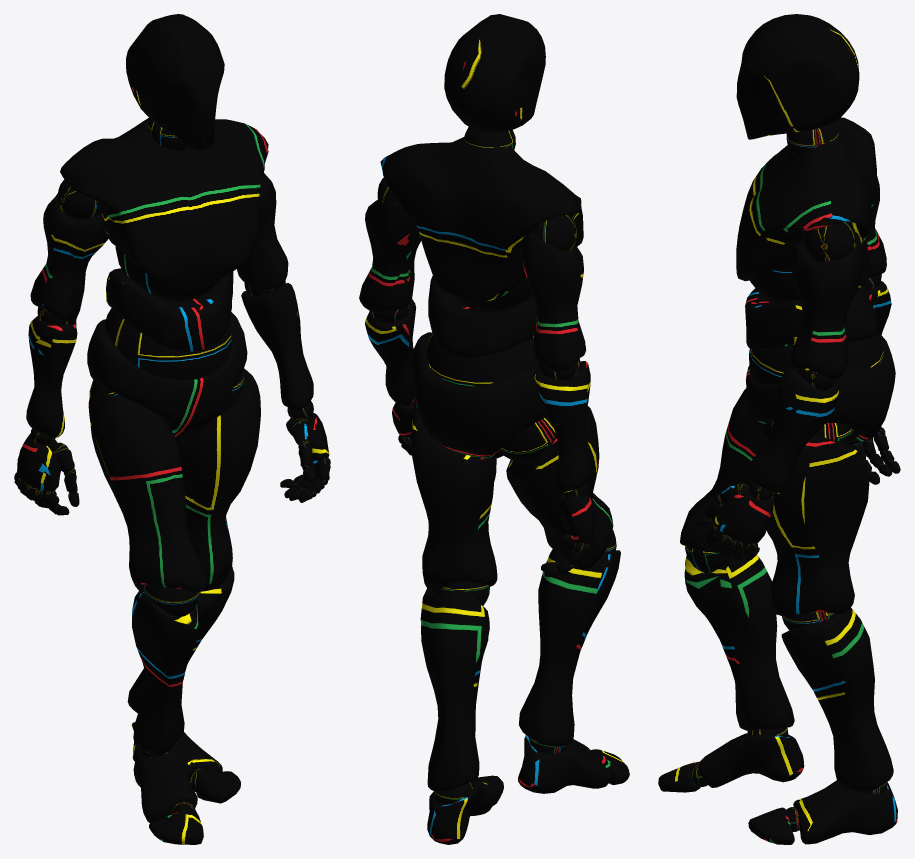
File: y-bot-origin_000001.obj
The picture shows the model from 3 angles, left to right: view 1: azimuth 30°, elevation 25°; view 2: azimuth 150°, elevation 25°; view 3: azimuth 270°, elevation 25°; orthographic projection. The views are drawn at different scales.
Visible parts, largest first — view 1: Alpha_Surface_Alpha_SurfaceMesh, Alpha_Joints_Alpha_JointsMesh; view 2: Alpha_Surface_Alpha_SurfaceMesh, Alpha_Joints_Alpha_JointsMesh; view 3: Alpha_Surface_Alpha_SurfaceMesh, Alpha_Joints_Alpha_JointsMesh.
Part boxes in pixels (x1,y1,x2,y2): Alpha_Surface_Alpha_SurfaceMesh: (14,14,330,844); Alpha_Joints_Alpha_JointsMesh: (14,118,330,813); Alpha_Surface_Alpha_SurfaceMesh: (359,14,629,844); Alpha_Joints_Alpha_JointsMesh: (370,127,616,804); Alpha_Surface_Alpha_SurfaceMesh: (658,14,900,844); Alpha_Joints_Alpha_JointsMesh: (685,122,893,831).
Bounding box in the file's own units: 0.5934 × 1.79 × 0.4881.
